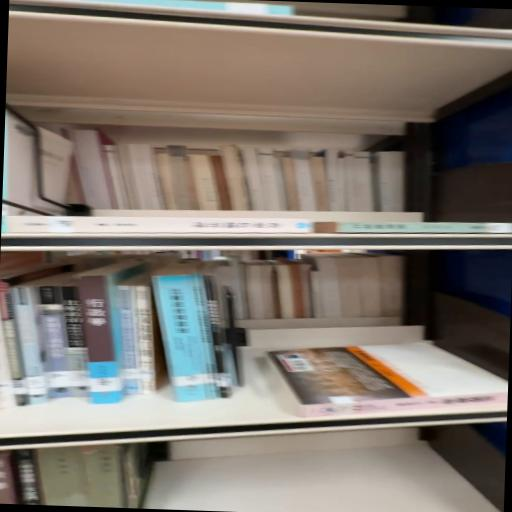flat: (267, 343, 508, 417), (2, 216, 314, 236), (316, 222, 512, 235)
